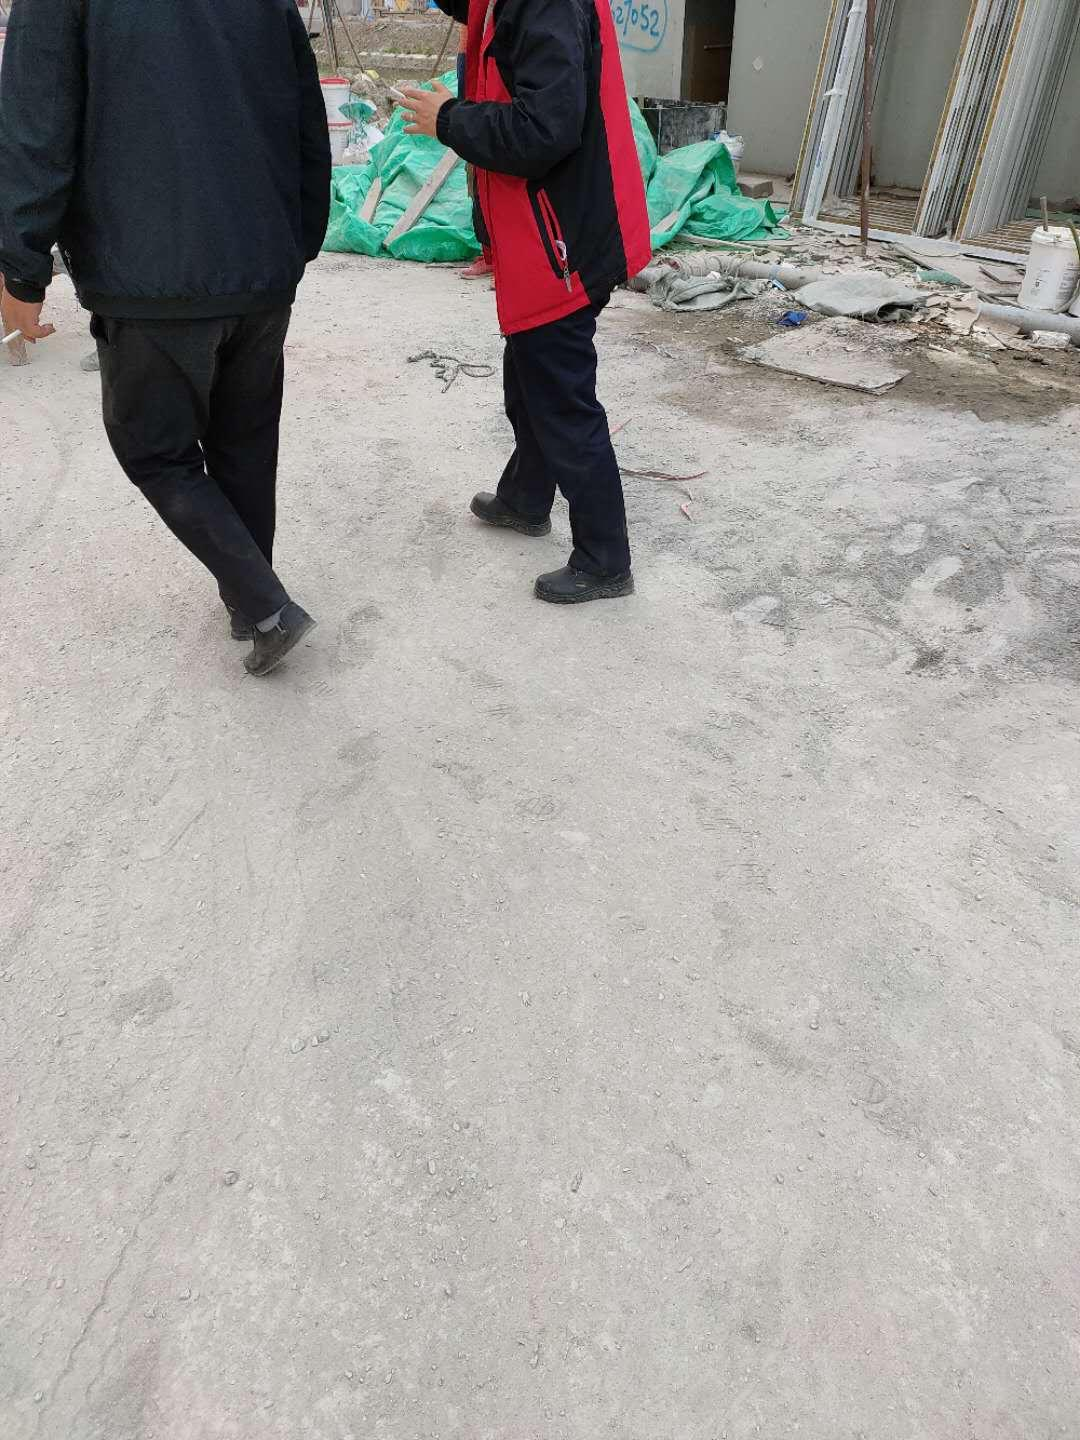Cigarette: (3, 324, 22, 348), (389, 86, 407, 98)
